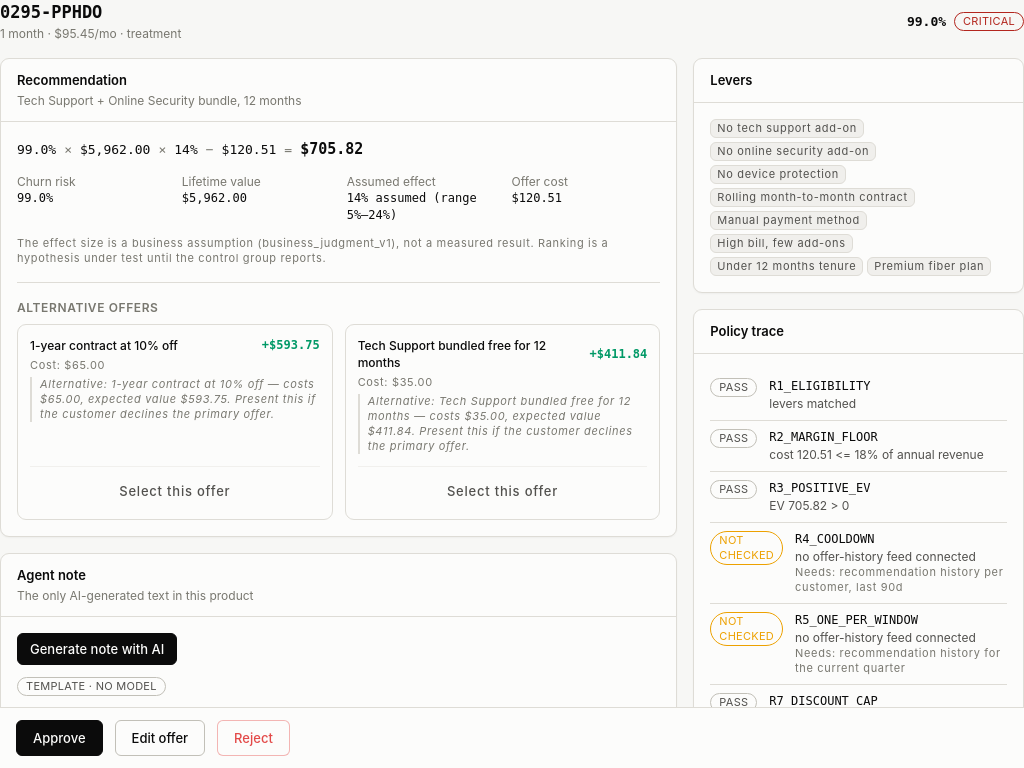
Test: CustomerPage › swaps closing talk track line in Agent Note when alternate is selected and reverts with "Use recommended offer"
The width and height of the screenshot is (1024, 768).
Expected: the heading "0295-PPHDO" is shown, [0,2,102,22]
Expected: the text "Fibre customer one month in, on a rolling contract with no support or security add-ons." is shown, [17,709,556,725]
Note: Click "Select this offer" on the first alternative
Click the 1st button "Select this offer": point(175, 491) [30,475,320,507]
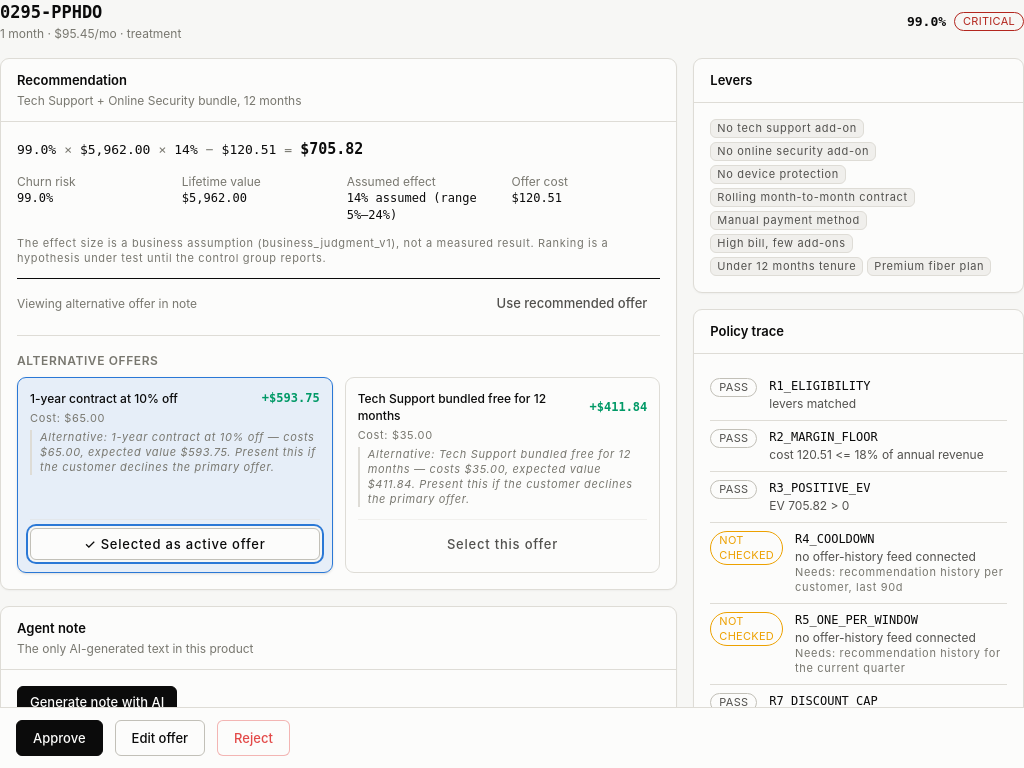
Now the text "Alternative: 1-year contract at 10% off — costs $65.00, expected value $593.75. Present this if the customer declines th" is shown 2 times
Now the button "Use recommended offer" is shown
Click the button "Use recommended offer": point(572, 303) [484,287,660,319]
(page scrolled)
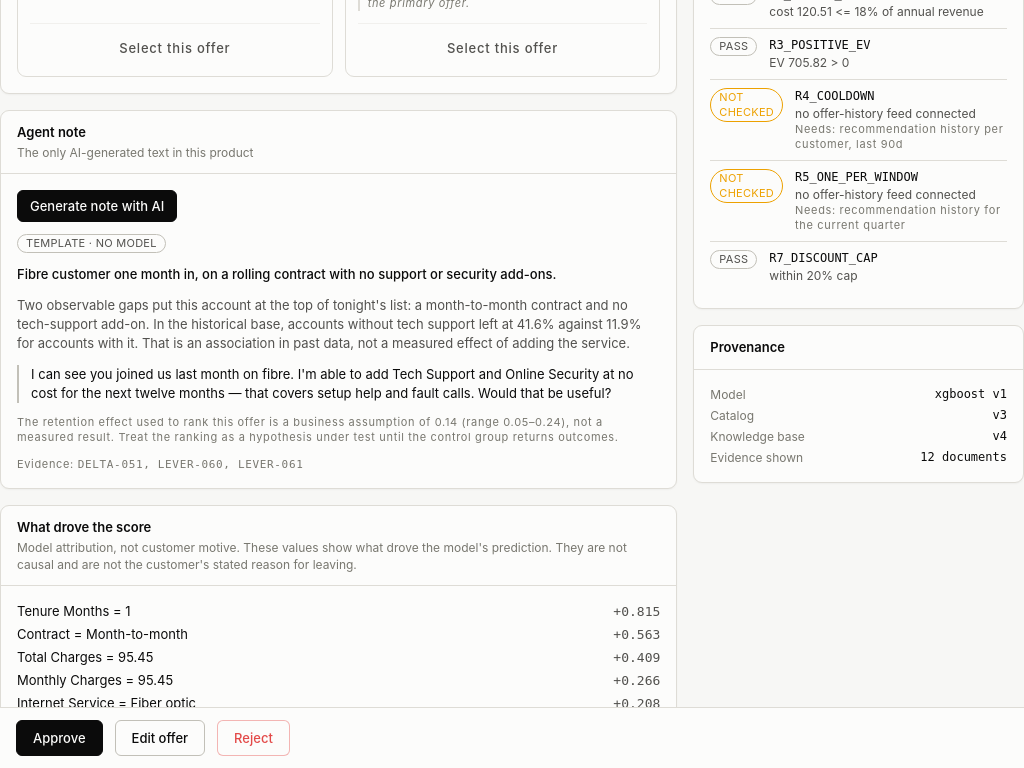
Now the button "Use recommended offer" is gone
